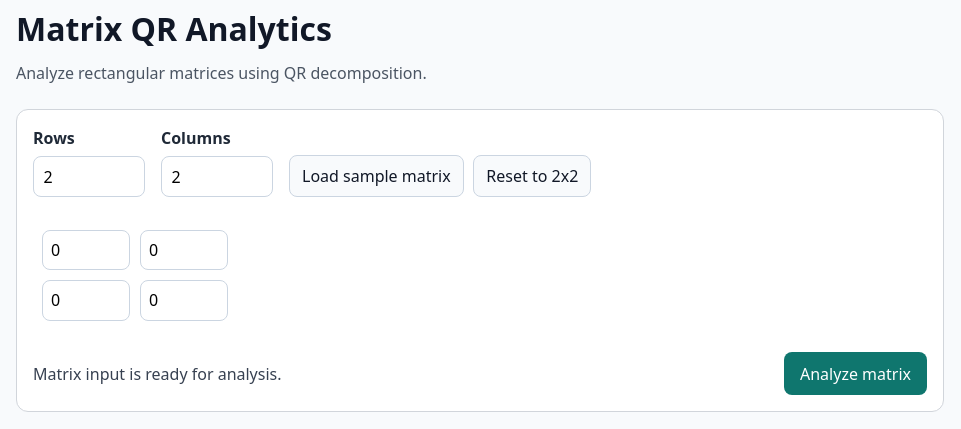
App › disables Analyze when a cell is cleared and shows validation message
The image size is (961, 429).
Clear the 1st field named "Cell row 1, column 1". click: x=86, y=250
box: 42,230 -> 130,270
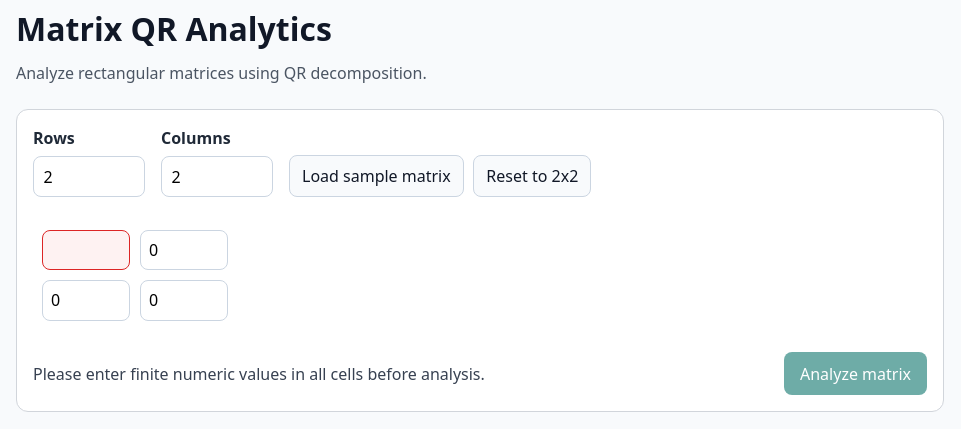
expect the button "Analyze matrix" is disabled: met, box 784,352 -> 927,395
expect the text "Please enter finite numeric values in all cells before analysis." is shown: met, box 33,362 -> 485,386
